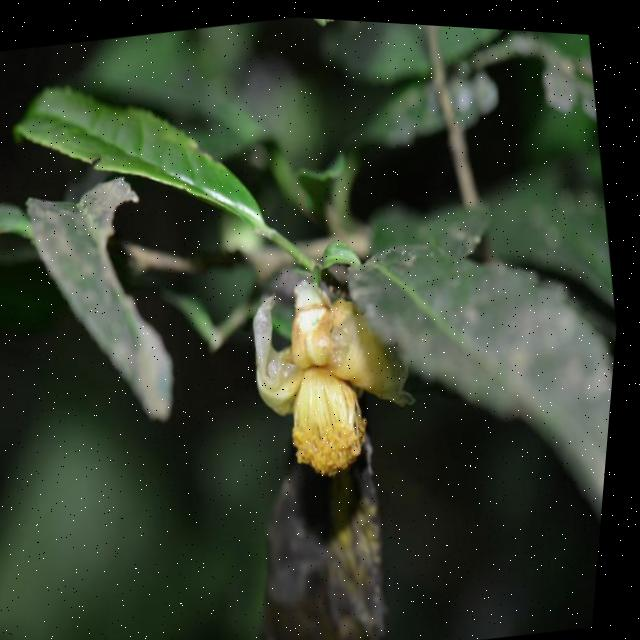Tea algae leaf spot: (327, 176, 630, 485), (14, 154, 214, 437)
